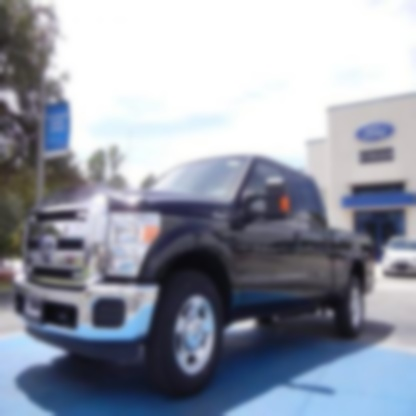Vehicle: (11, 155, 377, 397)
